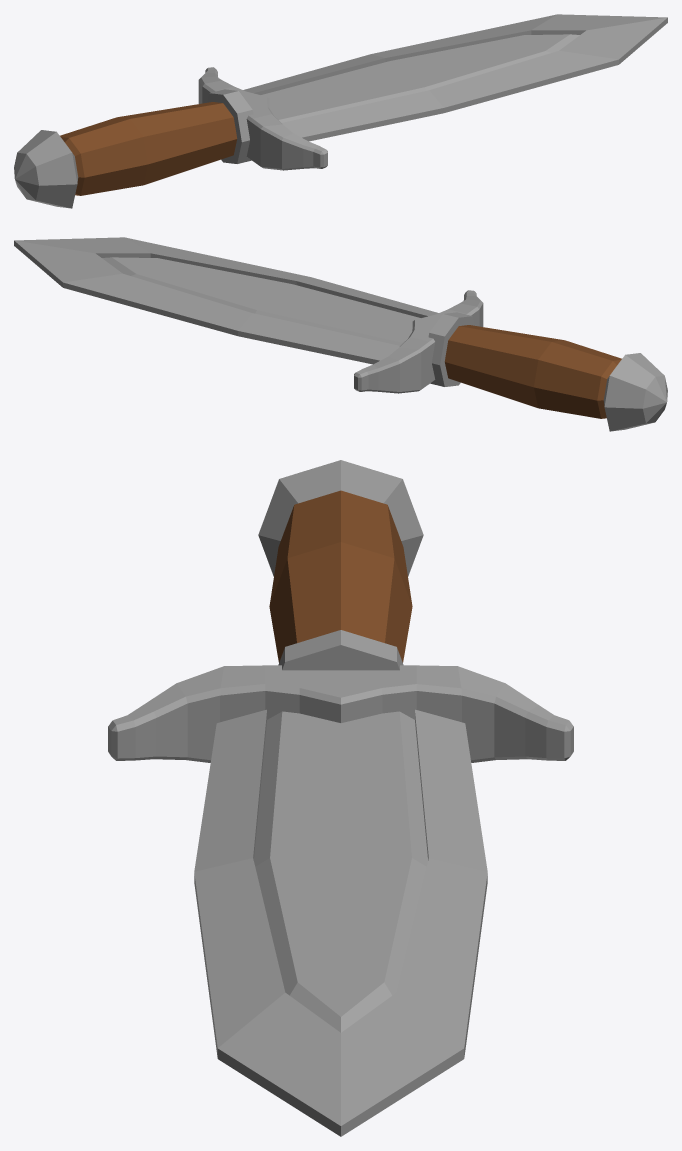
File: Dagger.fbx
3 views of the same model, one above another, from view 1: azimuth 30°, elevation 25°; view 2: azimuth 150°, elevation 25°; view 3: azimuth 270°, elevation 25° (orthographic). The views are drawn at different scales.
Visible parts, largest first — view 1: Cube.004, Cube.002, Cube.003; view 2: Cube.004, Cube.002, Cube.003; view 3: Cube.004, Cube.002, Cube.003.
Part boxes in pixels (x1,y1,x2,y2): Cube.004: (243, 14, 667, 141); Cube.002: (14, 89, 253, 208); Cube.003: (198, 67, 327, 170); Cube.004: (14, 237, 438, 364); Cube.002: (428, 312, 667, 431); Cube.003: (354, 290, 483, 393); Cube.004: (194, 709, 487, 1136); Cube.002: (258, 460, 423, 670); Cube.003: (108, 665, 573, 762).
Size of the model in its own units: 128 by 14.03 by 39.48.
